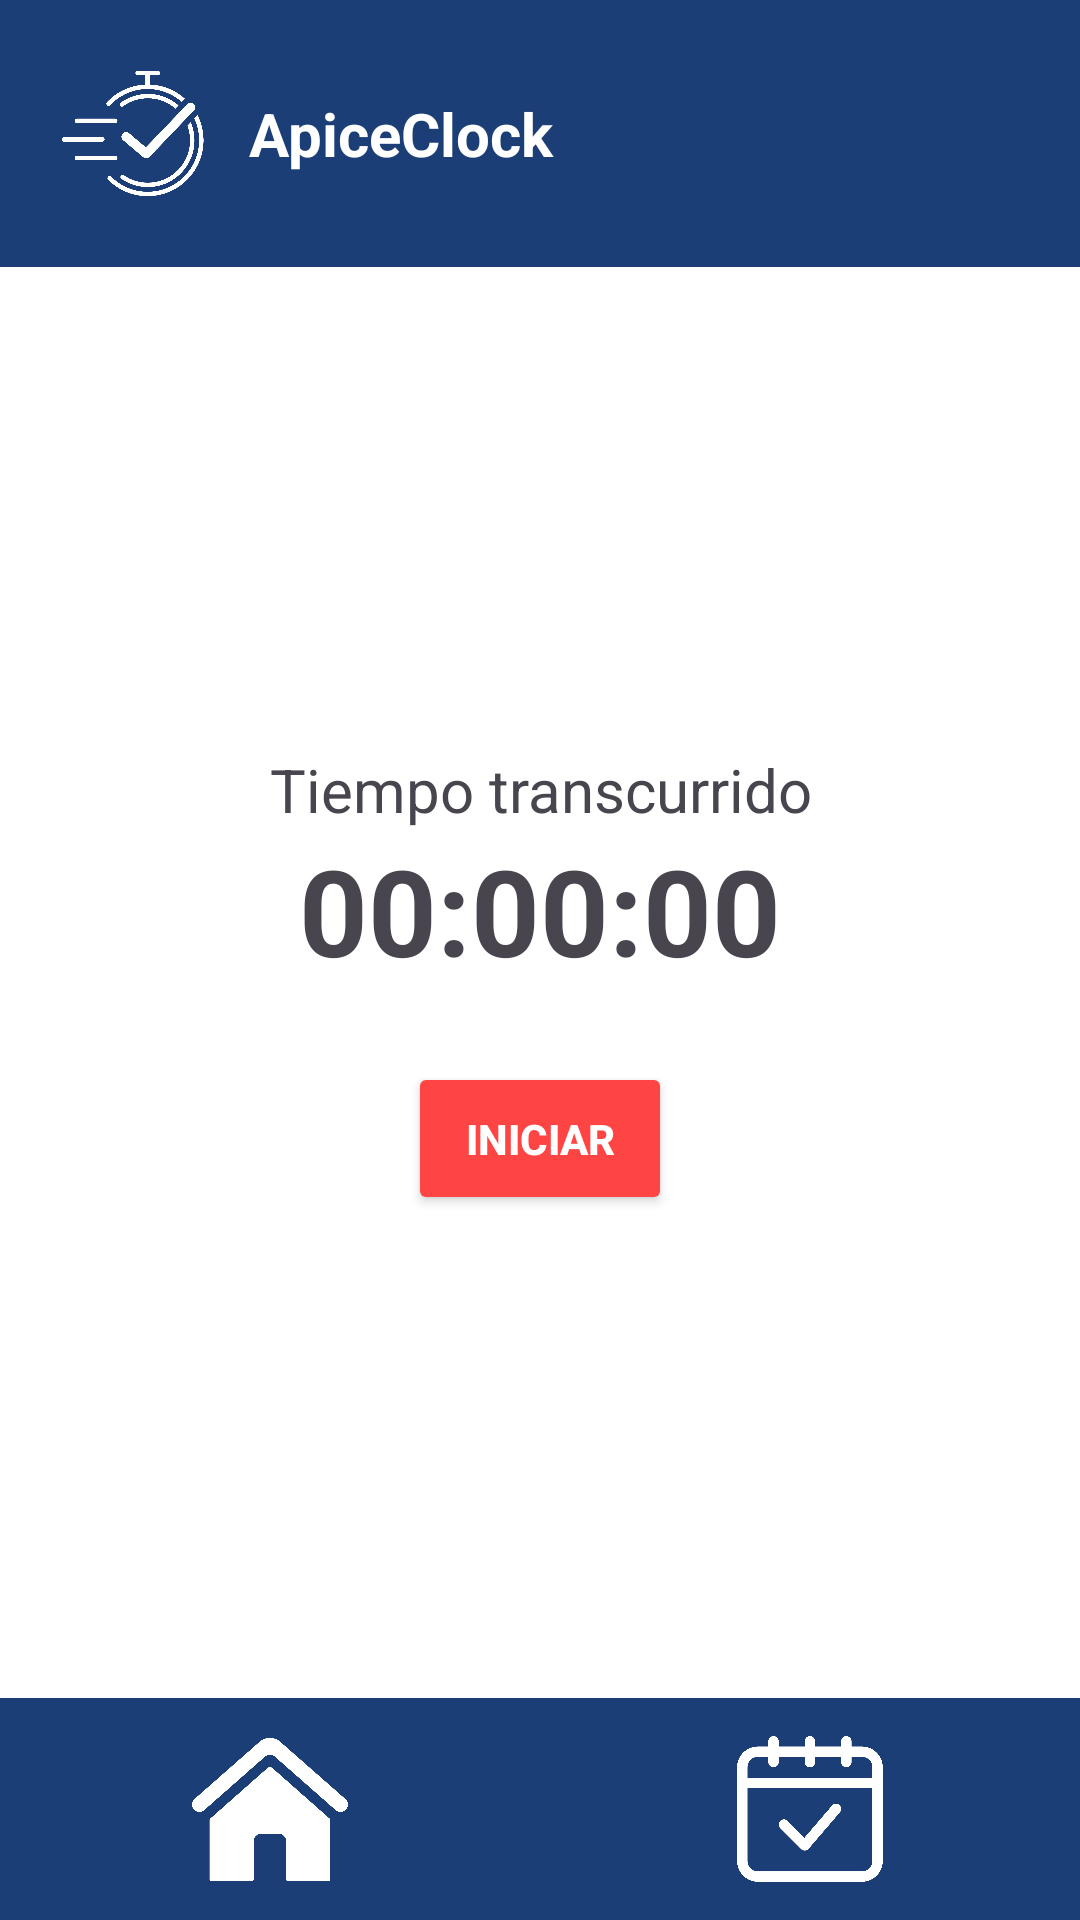

Screen size 1080px×1920px. Icon name, then its center in pixels as (x=x, y=y):
Home: (x=270, y=1809)
